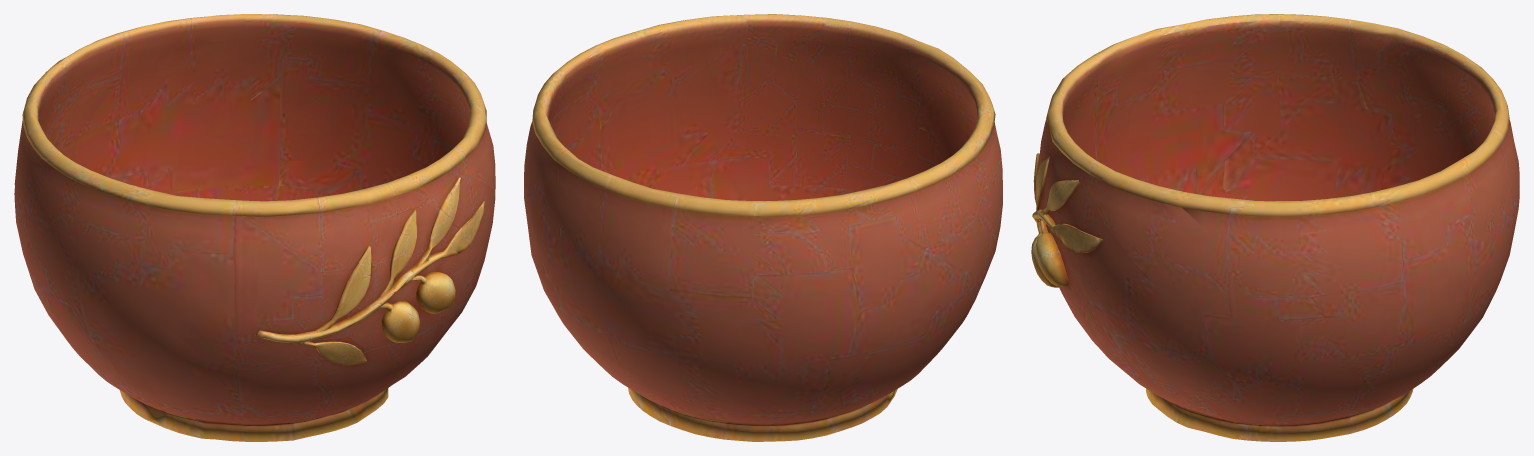
Rendered from Meshy_AI_peach_ceramic_bowl_1109192231_texture.glb.
3 views of the same model, side by side, from view 1: azimuth 30°, elevation 25°; view 2: azimuth 150°, elevation 25°; view 3: azimuth 270°, elevation 25° (orthographic).
Parts seen in each view (by area): view 1: geometry_0; view 2: geometry_0; view 3: geometry_0.
Part boxes in pixels (x1,y1,x2,y2): geometry_0: (14,14,495,441); geometry_0: (524,14,1002,441); geometry_0: (1031,14,1519,441).
Bounding box in the file's own units: 0.9414 × 0.5981 × 0.9531.
Materials: 1 (1 with a texture image).
